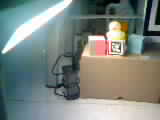duck: (100, 16, 128, 41)
